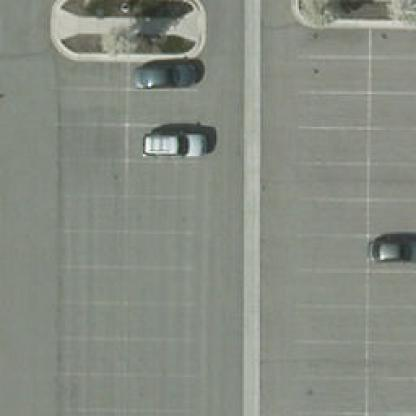car: (136, 128, 208, 158), (132, 60, 202, 86)
